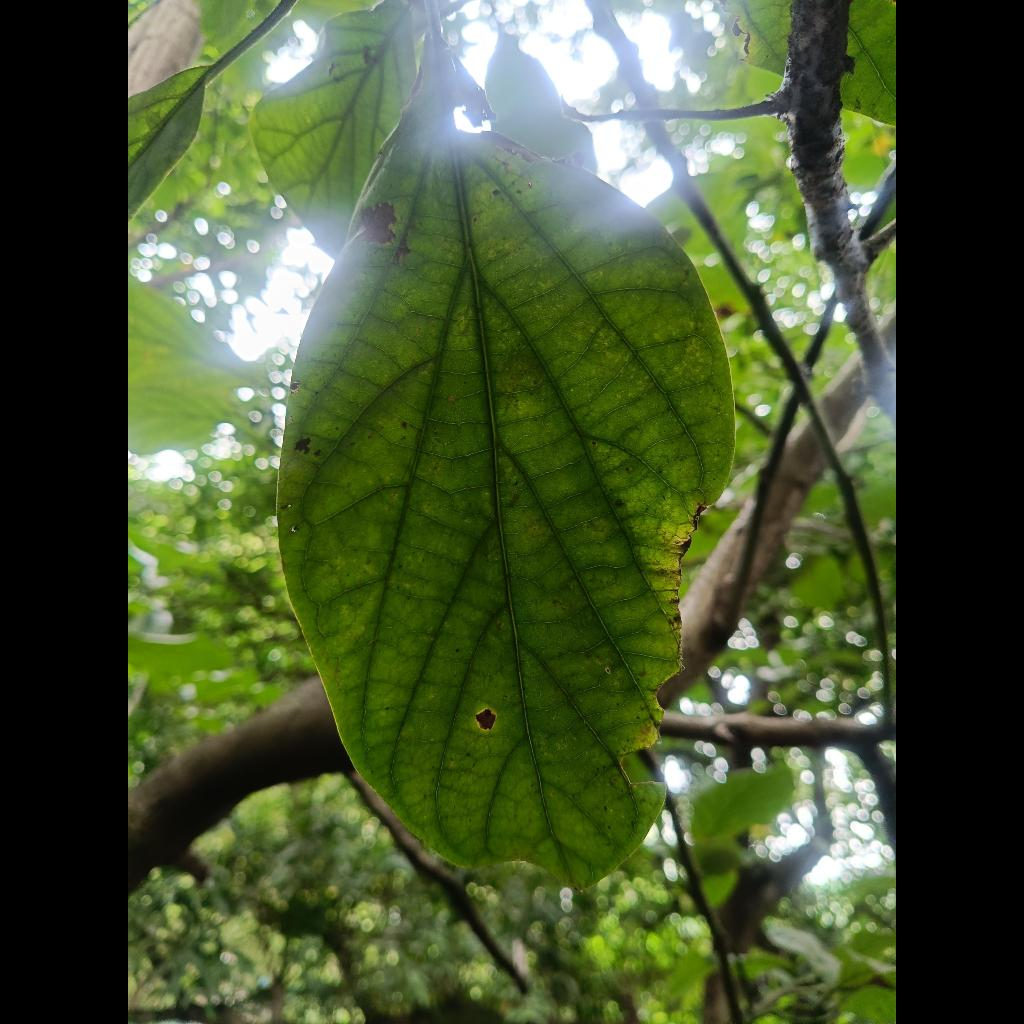antracnosis_hoja: (278, 50, 733, 888)
